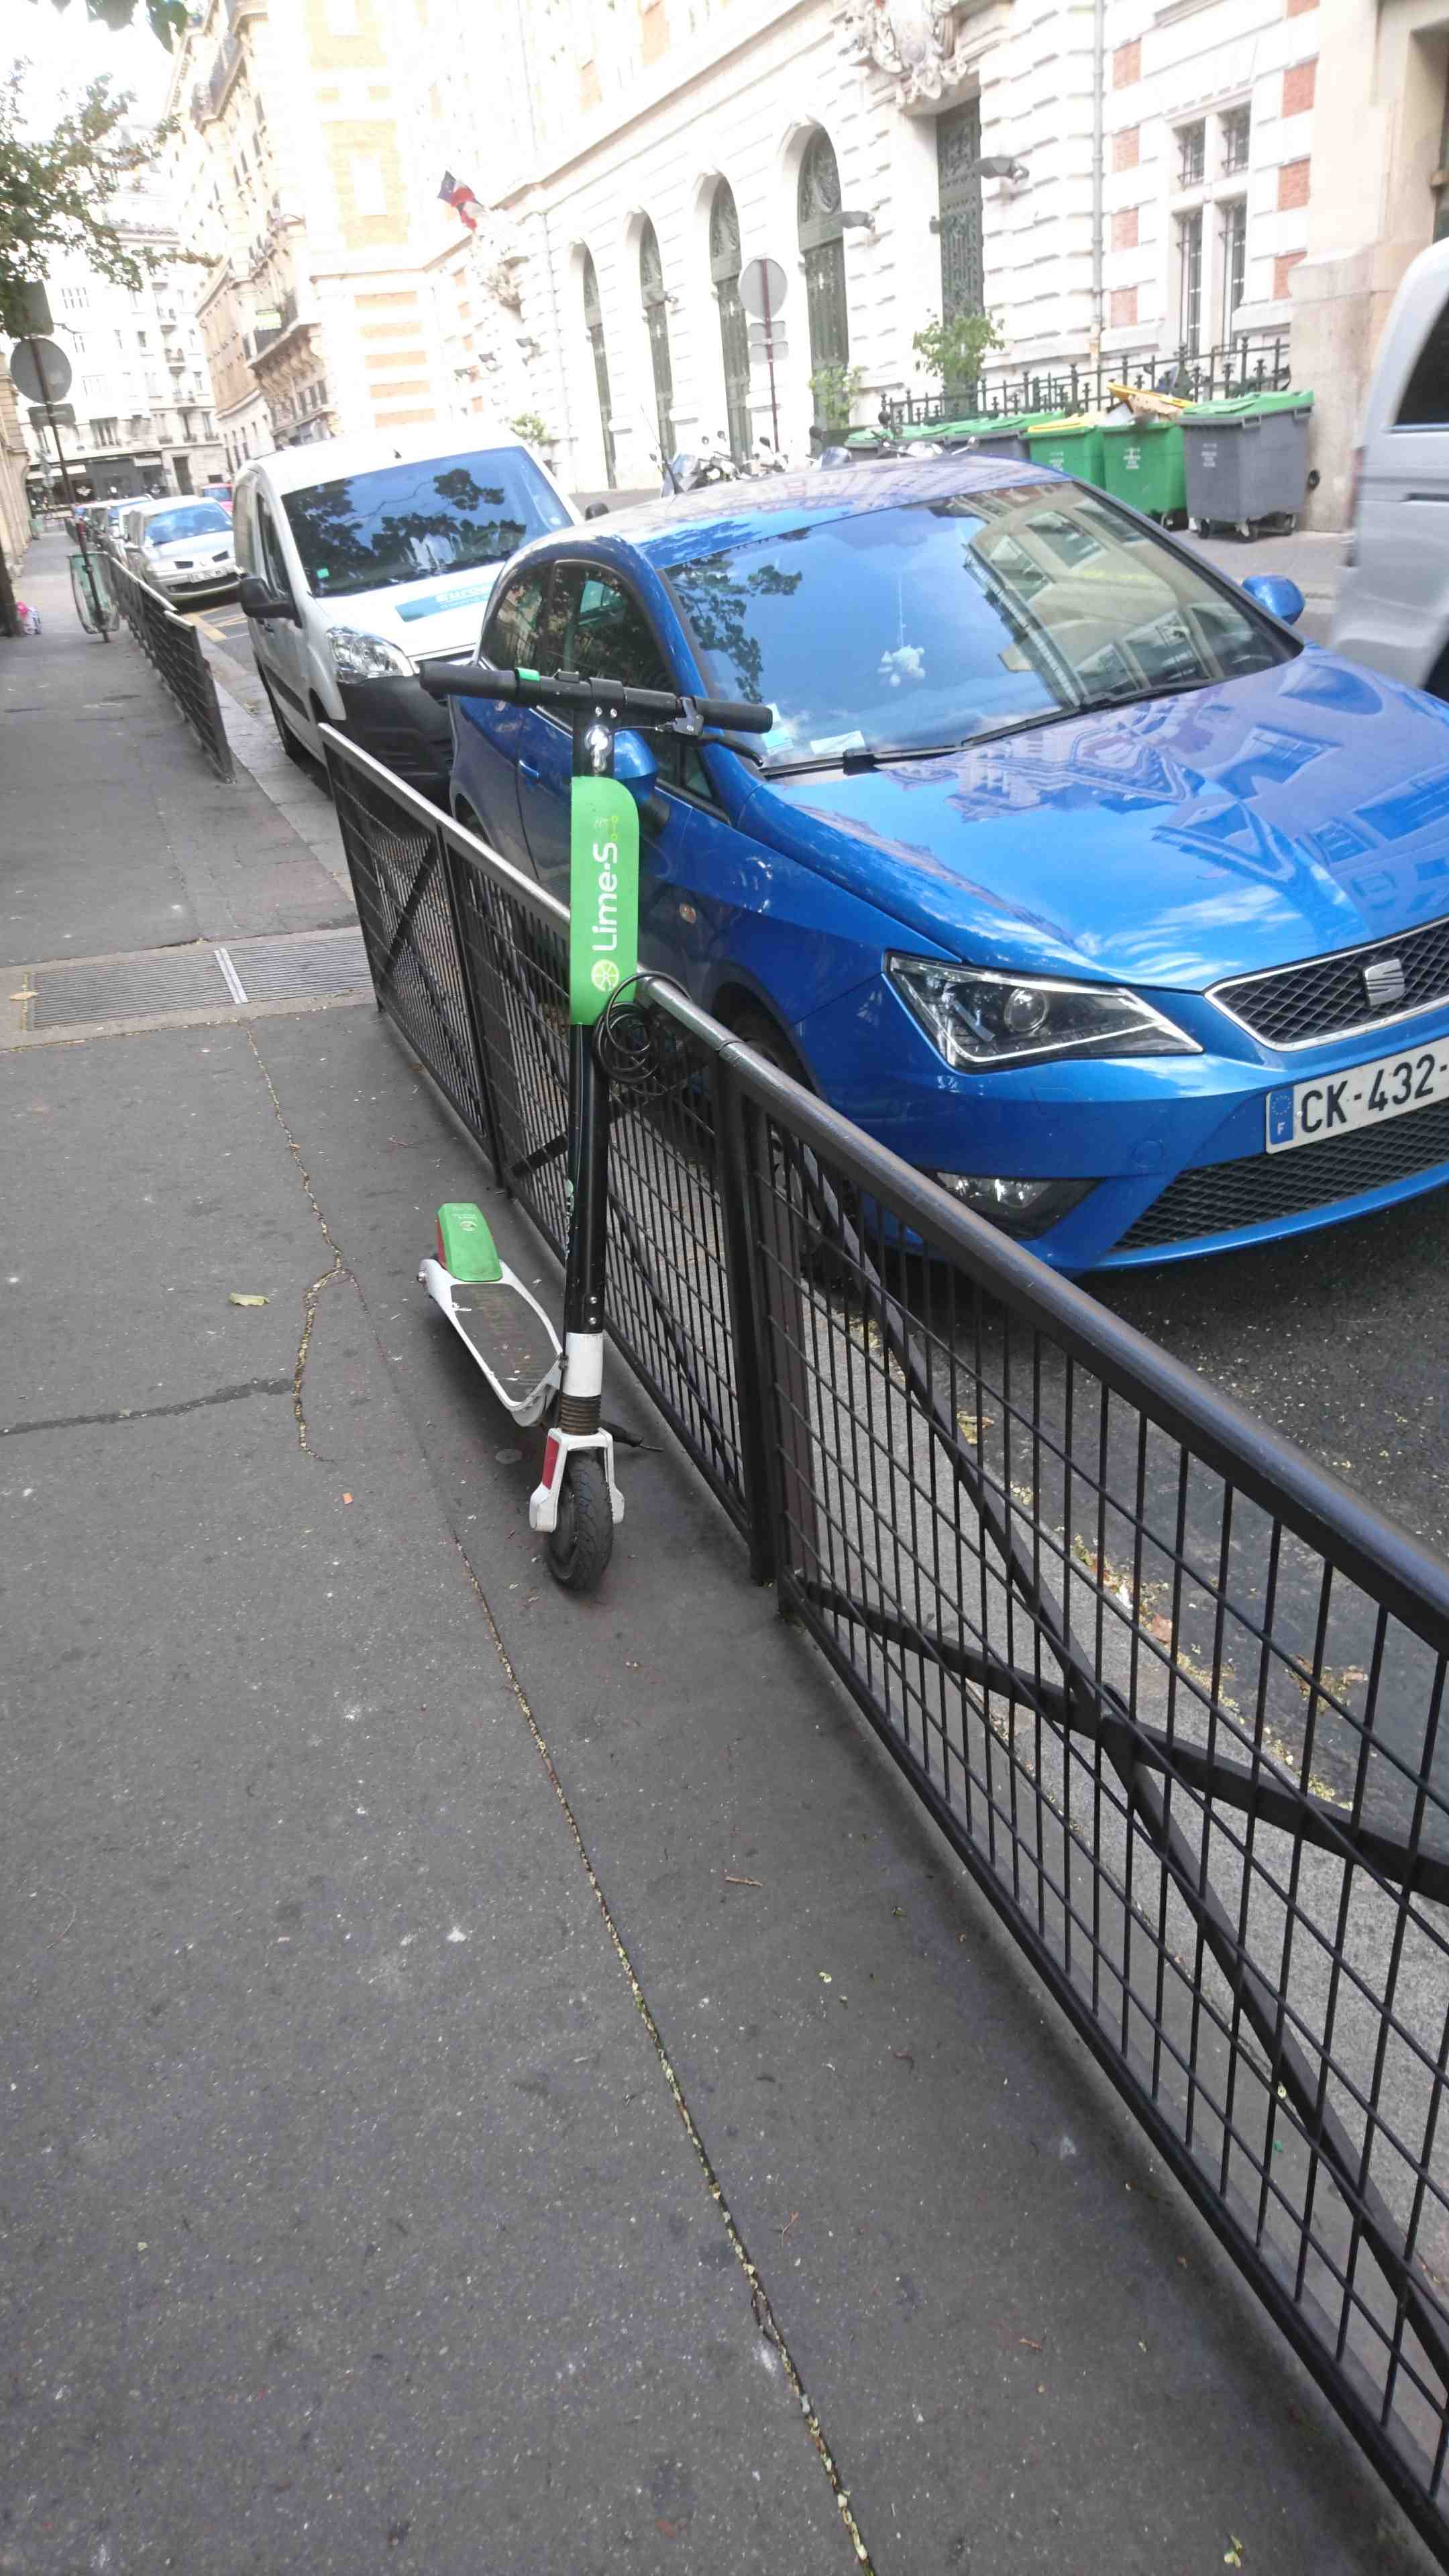scooter: (382, 609, 649, 1599)
